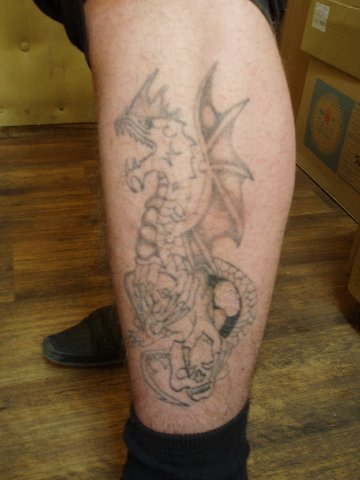tatu6_drakon: (68, 31, 281, 417)
